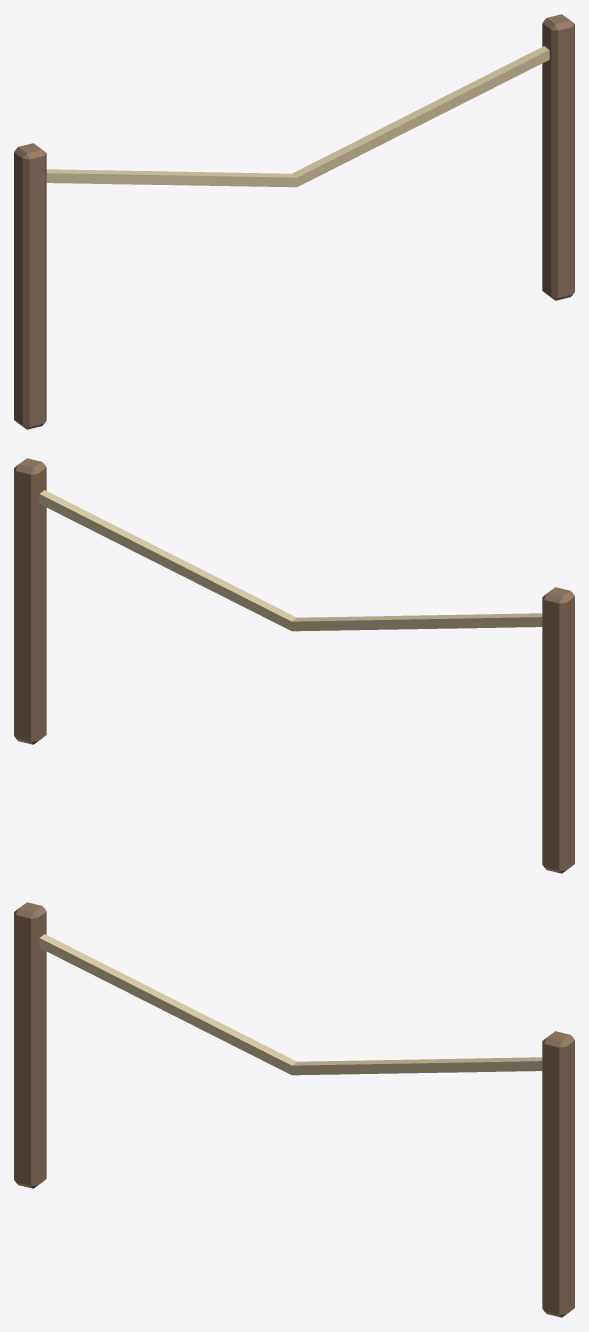
The model's file is feudal-japan-castle-town-rope-barrier-a31b9d31__26510.glb.
3 views of the same model, one above another, from view 1: azimuth 30°, elevation 25°; view 2: azimuth 150°, elevation 25°; view 3: azimuth 330°, elevation 25° (orthographic).
Parts seen in each view (by area): view 1: rope-barrier; view 2: rope-barrier; view 3: rope-barrier.
Part boxes in pixels (x1,y1,x2,y2): rope-barrier: (14, 14, 574, 429); rope-barrier: (14, 458, 574, 873); rope-barrier: (14, 902, 574, 1317).
Size of the model in its own units: 2.09 by 0.9999 by 0.0901.
